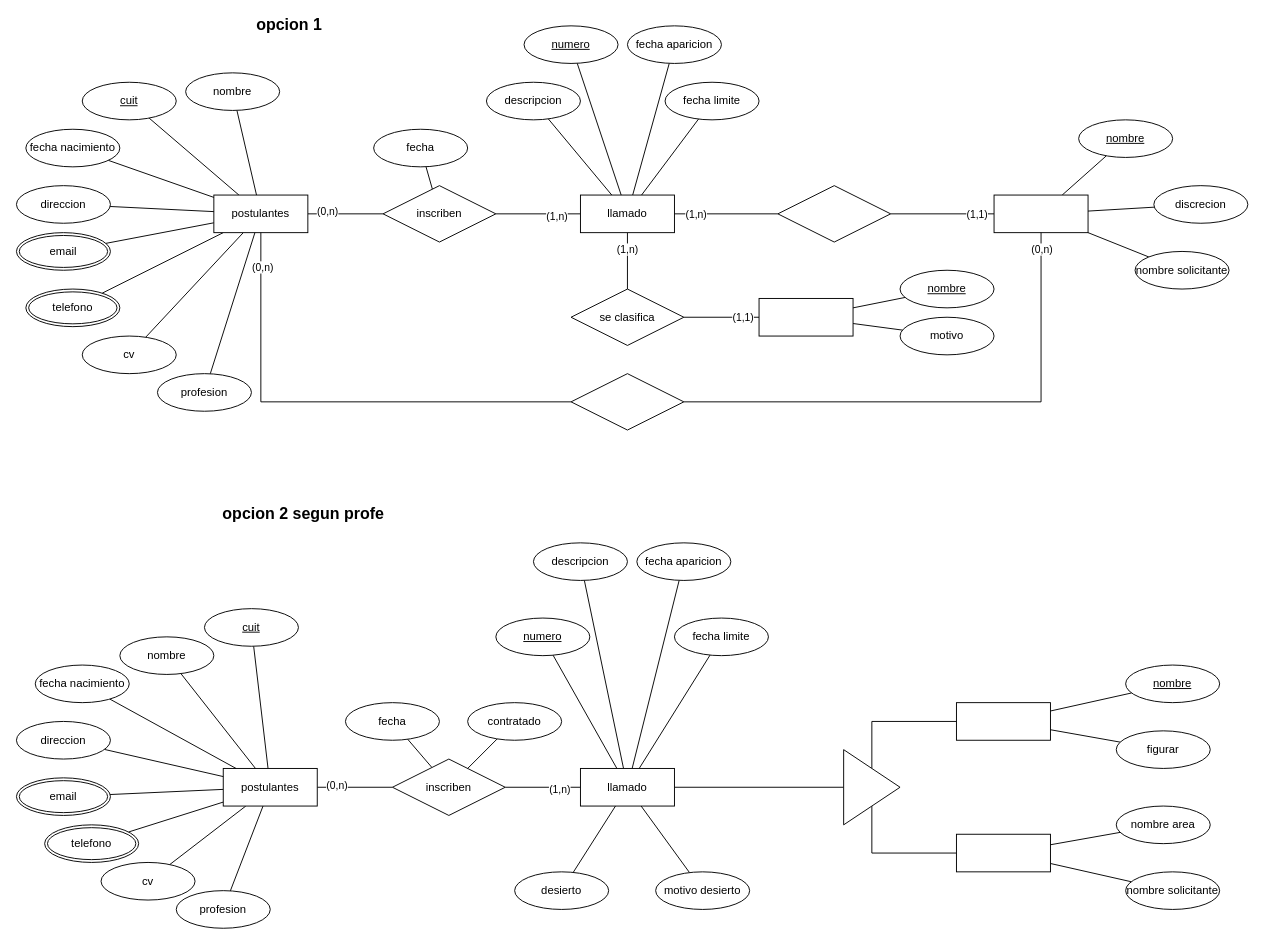
Image size: 1264x945. Some labels were removed from this diagram. Here are the shapes that lost their labels. From the top down, the box of each, then its label:
(777, 185, 891, 242): proviene
(993, 194, 1088, 233): empresa
(758, 298, 853, 336): tipo
(570, 373, 684, 430): contrata
(956, 702, 1050, 740): otra empresa
(956, 833, 1050, 872): area
